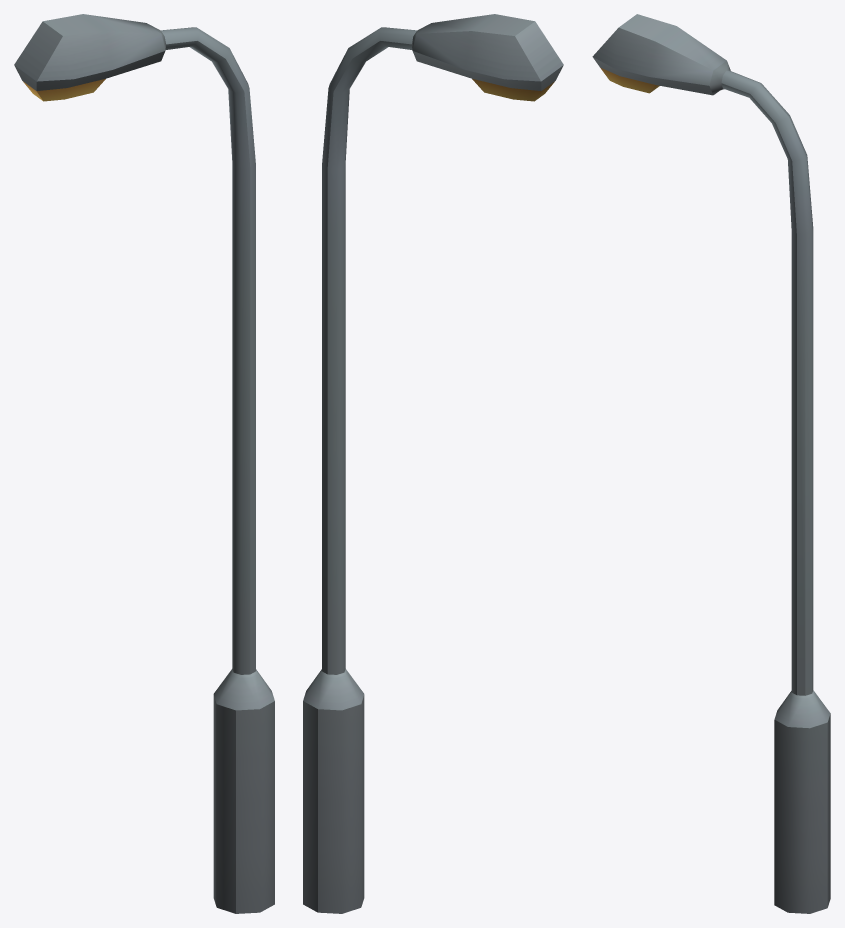
File: streetlight.glb
The picture shows the model from 3 angles, left to right: view 1: azimuth 30°, elevation 25°; view 2: azimuth 150°, elevation 25°; view 3: azimuth 330°, elevation 25°; orthographic projection. The views are drawn at different scales.
Visible parts, largest first — view 1: streetlight; view 2: streetlight; view 3: streetlight.
Boxes of the visible parts, x1=… form: streetlight: x1=14, y1=14, x2=274, y2=913; streetlight: x1=303, y1=14, x2=563, y2=913; streetlight: x1=592, y1=14, x2=830, y2=913.
Size of the model in its own units: 0.2693 by 0.9599 by 0.069.
Materials: 1 (1 with a texture image).
